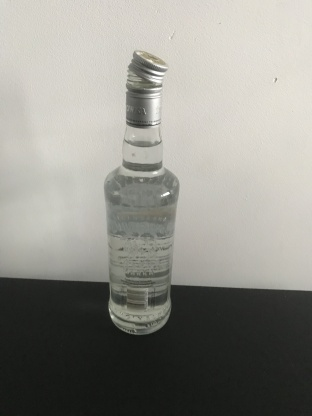nakretka: (123, 49, 169, 128)
